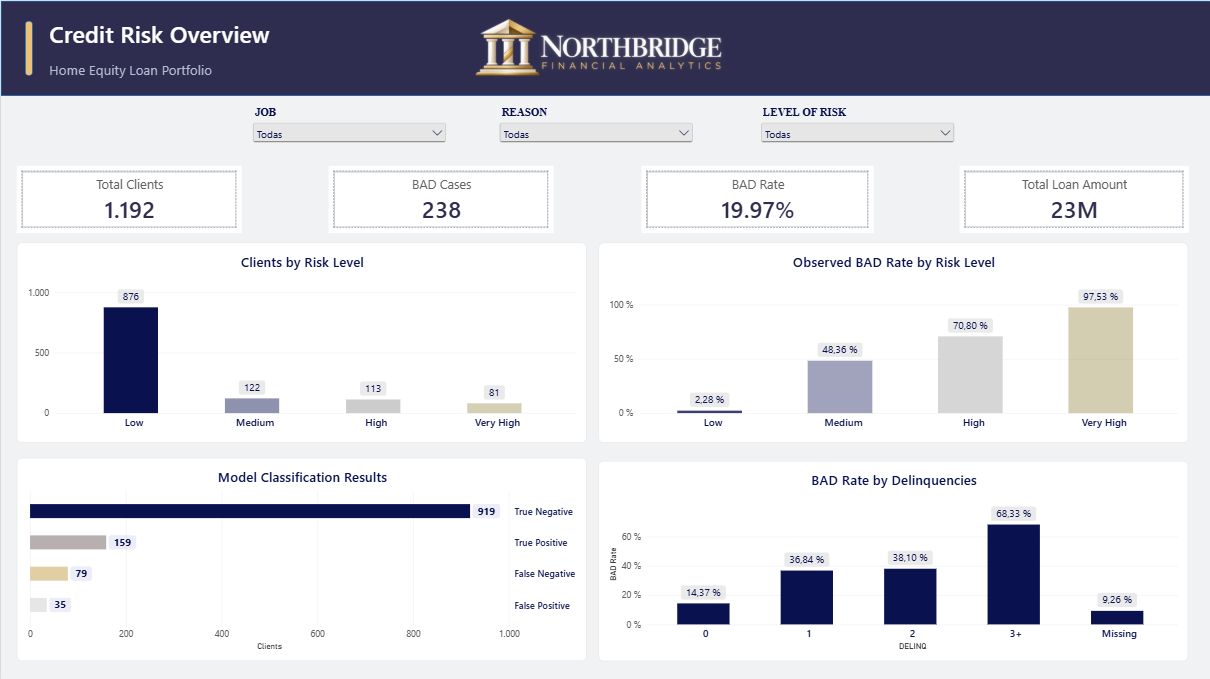

The dashboard page shown, as its layout file describes it:
{"tool":"powerbi","page":{"name":"Página 1","canvas":[1920,1080],"ordinal":0},"visuals":[{"type":"cardVisual","fields":{"Data":["credit_risk_powerbi.Total Clients Display"]},"box":[25,261.7,357.1,106.5],"z":0},{"type":"clusteredColumnChart","title":"Clients by Risk Level","fields":{"Category":["credit_risk_powerbi.Risk Level EN"],"Y":["credit_risk_powerbi.Total Clientes"]},"box":[25,383.3,905,318.3],"z":1000},{"type":"barChart","title":"Model Classification Results","fields":{"Category":["credit_risk_powerbi.Classification Result EN"],"Y":["credit_risk_powerbi.Total Clientes"]},"box":[25,725,905,323.3],"z":2000},{"type":"slicer","fields":{"Values":["credit_risk_powerbi.REASON"]},"box":[786.3,166,316.4,65.8],"z":3000},{"type":"shape","box":[0,0,1920.4,150.4],"z":4000},{"type":"image","box":[650,0,595.2,145.7],"z":5000},{"type":"textbox","box":[76.7,26.7,780.1,123.7],"z":6000},{"type":"shape","box":[38.3,31.7,12,87],"z":7000},{"type":"clusteredColumnChart","title":"BAD Rate by Delinquencies","fields":{"Category":["credit_risk_powerbi.DELINQ Group"],"Y":["credit_risk_powerbi.Tasa BAD"]},"box":[948.3,730,936.7,318.3],"z":8000},{"type":"clusteredColumnChart","title":"Observed BAD Rate by Risk Level","fields":{"Category":["credit_risk_powerbi.Risk Level EN"],"Y":["credit_risk_powerbi.Tasa BAD"]},"box":[948,384,936.7,318.3],"z":9000},{"type":"cardVisual","fields":{"Data":["credit_risk_powerbi.Clientes BAD"]},"box":[520,261.7,357.1,106.5],"z":10000},{"type":"cardVisual","fields":{"Data":["credit_risk_powerbi.BAD Rate Display"]},"box":[1016.7,261.7,368.1,106.5],"z":11000},{"type":"cardVisual","fields":{"Data":["credit_risk_powerbi.Total Loan Amount Display"]},"box":[1521.7,261.7,363.4,106.5],"z":12000},{"type":"slicer","fields":{"Values":["credit_risk_powerbi.NIVEL_RIESGO"]},"box":[1201.4,166,316.4,65.8],"z":13000},{"type":"slicer","fields":{"Values":["credit_risk_powerbi.JOB"]},"box":[394.7,166,316.4,65.8],"z":14001}]}

Visuals, with their boxes in screenshot pixels (x1, y1, x2, y2), scaled from the page's 1920x1080 canvas onto the 1210x679 screenshot:
cardVisual - credit_risk_powerbi.Total Clients Display: (x1=16, y1=165, x2=241, y2=231)
"Clients by Risk Level" clusteredColumnChart: (x1=16, y1=241, x2=586, y2=441)
"Model Classification Results" barChart: (x1=16, y1=456, x2=586, y2=659)
slicer - credit_risk_powerbi.REASON: (x1=496, y1=104, x2=695, y2=146)
shape: (x1=0, y1=0, x2=1209, y2=95)
image: (x1=410, y1=0, x2=785, y2=92)
textbox: (x1=48, y1=17, x2=540, y2=95)
shape: (x1=24, y1=20, x2=32, y2=75)
"BAD Rate by Delinquencies" clusteredColumnChart: (x1=598, y1=459, x2=1188, y2=659)
"Observed BAD Rate by Risk Level" clusteredColumnChart: (x1=597, y1=241, x2=1188, y2=442)
cardVisual - credit_risk_powerbi.Clientes BAD: (x1=328, y1=165, x2=553, y2=231)
cardVisual - credit_risk_powerbi.BAD Rate Display: (x1=641, y1=165, x2=873, y2=231)
cardVisual - credit_risk_powerbi.Total Loan Amount Display: (x1=959, y1=165, x2=1188, y2=231)
slicer - credit_risk_powerbi.NIVEL_RIESGO: (x1=757, y1=104, x2=957, y2=146)
slicer - credit_risk_powerbi.JOB: (x1=249, y1=104, x2=448, y2=146)
